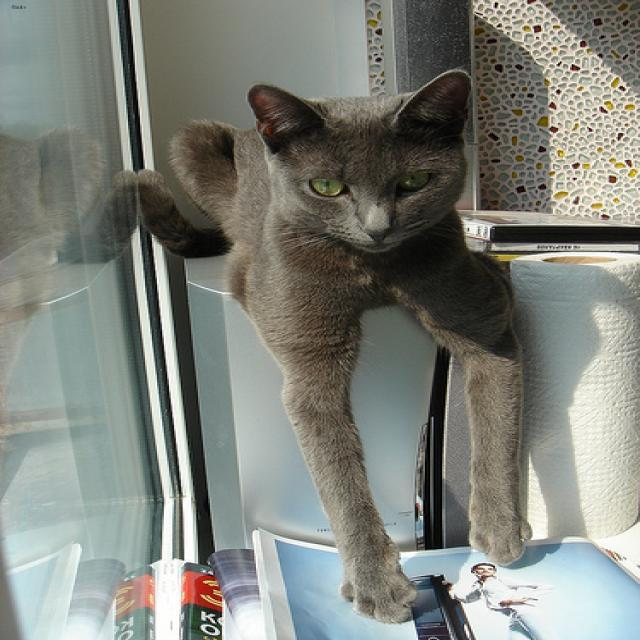Russian_Blue: (244, 66, 468, 251)
